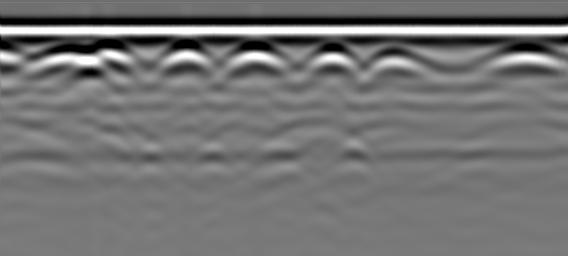steel: (494, 42, 561, 74), (232, 44, 285, 75), (38, 44, 92, 74), (371, 46, 430, 72), (165, 40, 212, 71), (312, 43, 355, 73), (94, 40, 139, 68)
